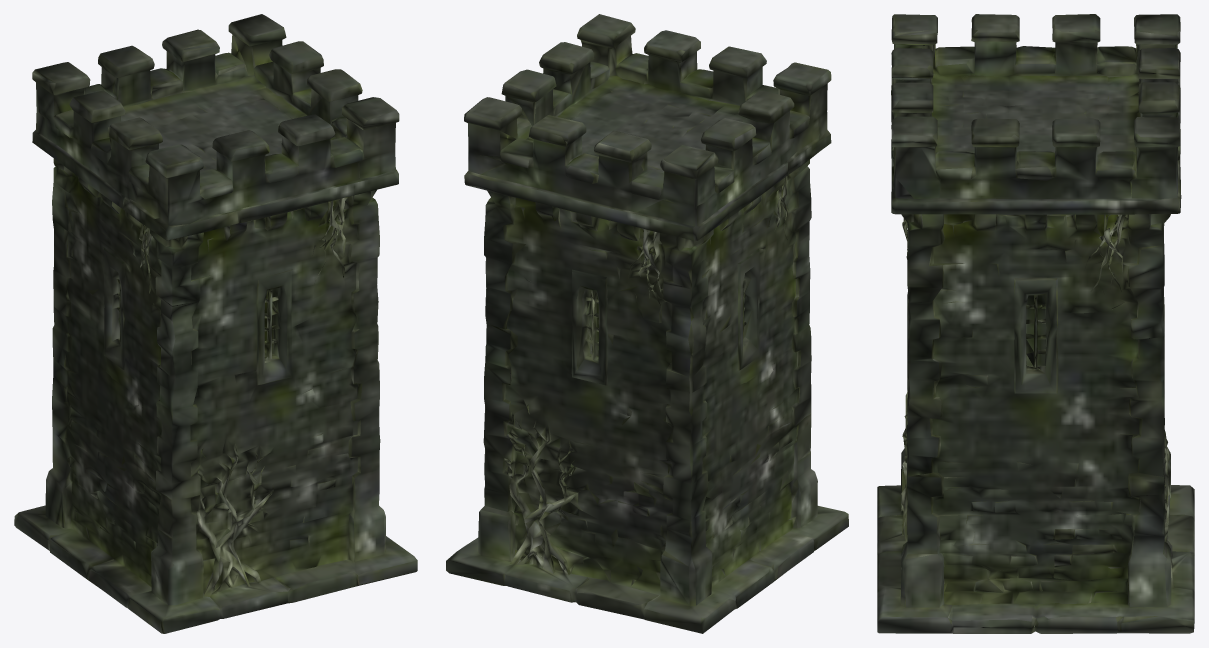
File: briarhold-watchtower-256.glb
3 views of the same model, side by side, from view 1: azimuth 30°, elevation 25°; view 2: azimuth 150°, elevation 25°; view 3: azimuth 270°, elevation 25° (orthographic). The views are drawn at different scales.
Parts seen in each view (by area): view 1: briarhold-watchtower; view 2: briarhold-watchtower; view 3: briarhold-watchtower.
Part boxes in pixels (x1,y1,x2,y2): briarhold-watchtower: [14, 14, 417, 633]; briarhold-watchtower: [446, 14, 848, 633]; briarhold-watchtower: [877, 14, 1194, 633].
Size of the model in its own units: 7 by 12 by 7.
Materials: 1 (1 with a texture image).
